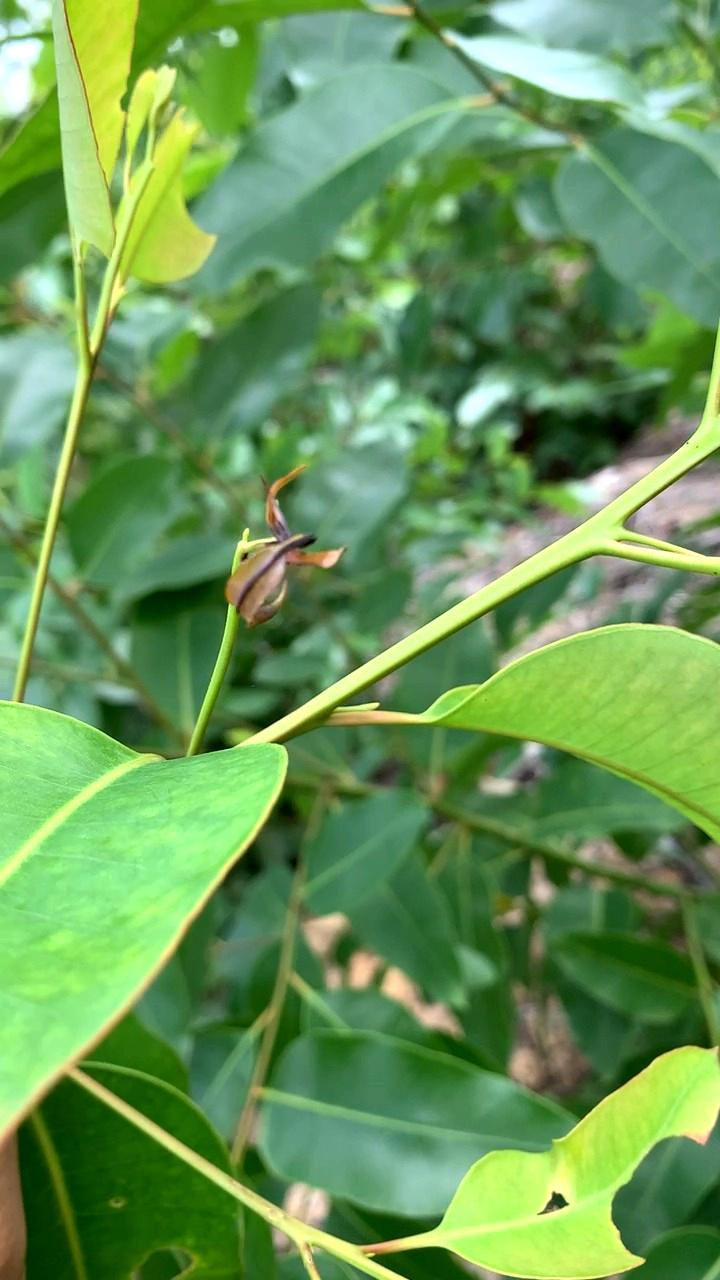Helopeltis-Withered Sprout: (226, 458, 349, 628)
